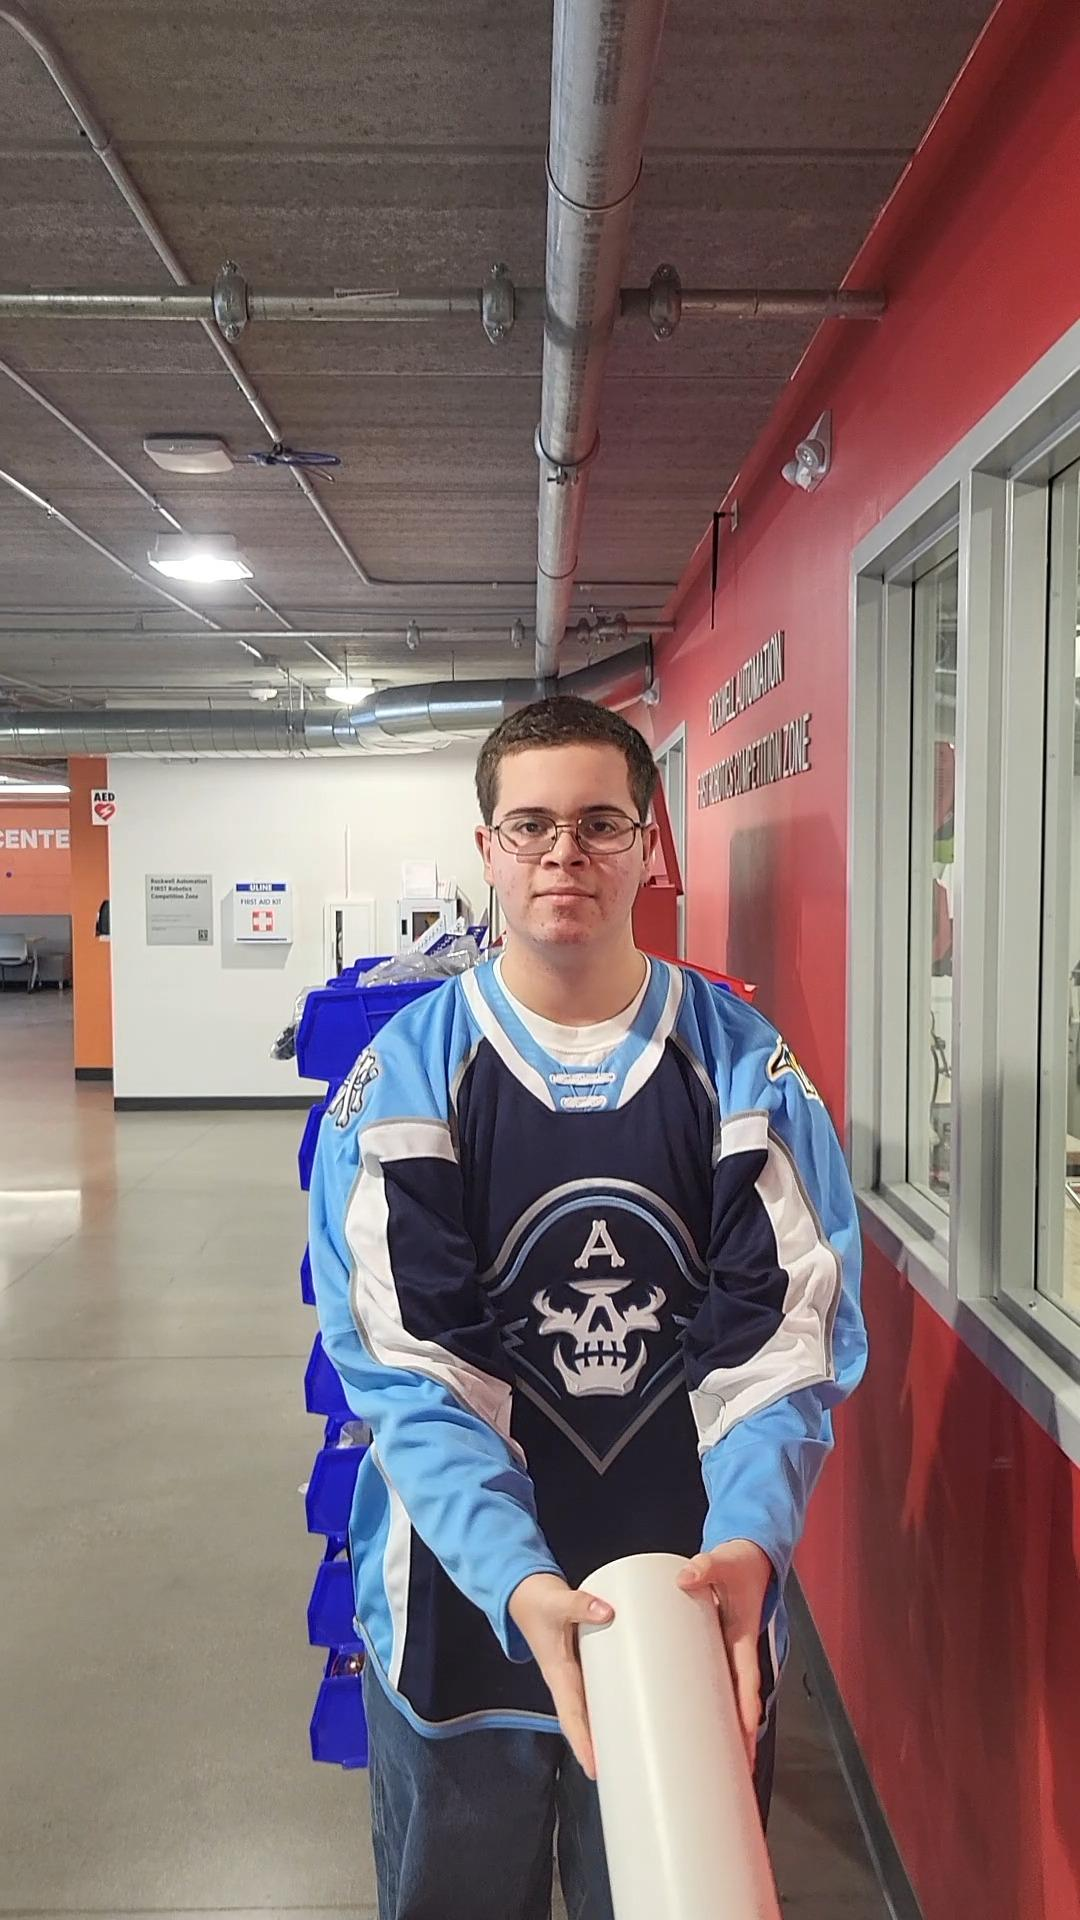coral: (563, 1547, 796, 1920)
